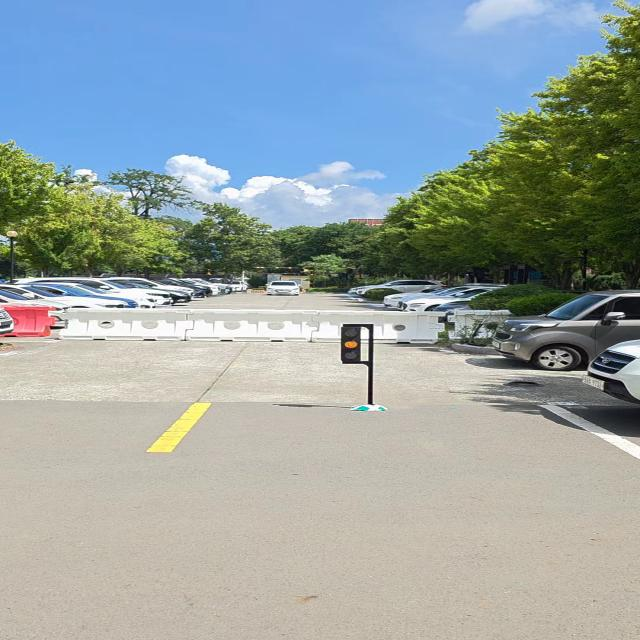yellow: (342, 327, 362, 364)
